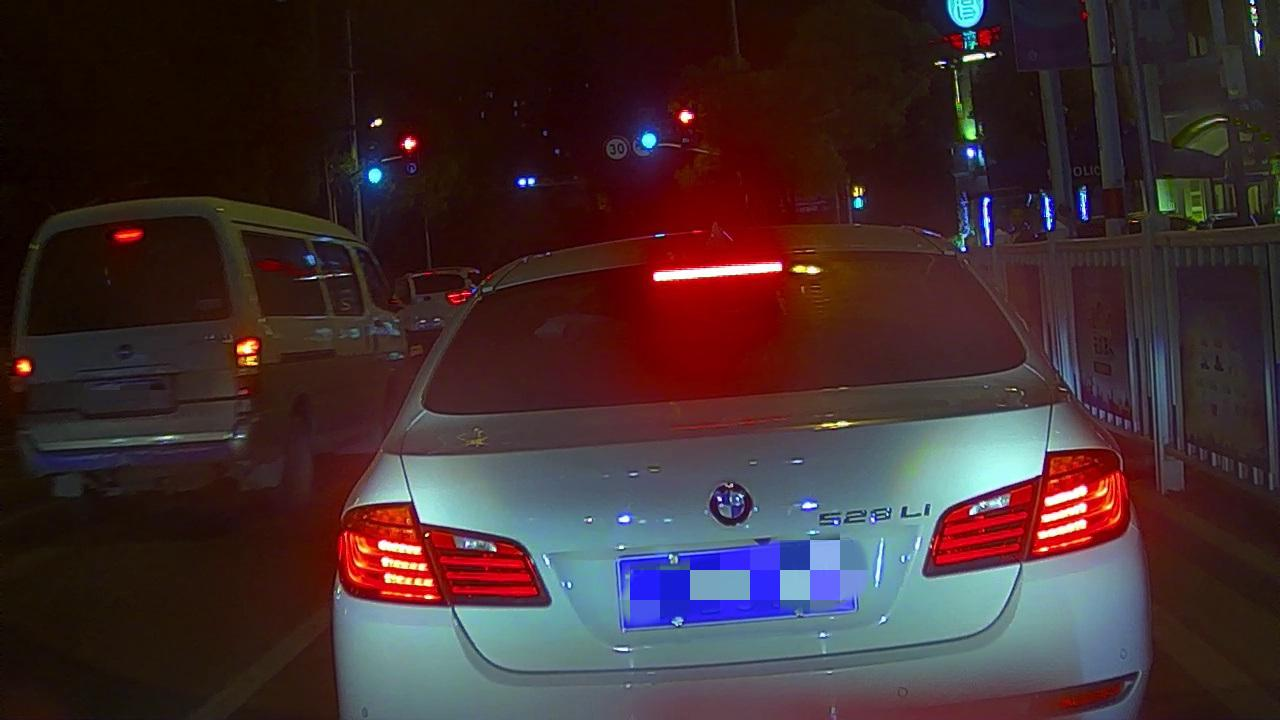traffic_light: (637, 127, 662, 152), (364, 162, 385, 188), (675, 106, 696, 128), (399, 134, 420, 152)
